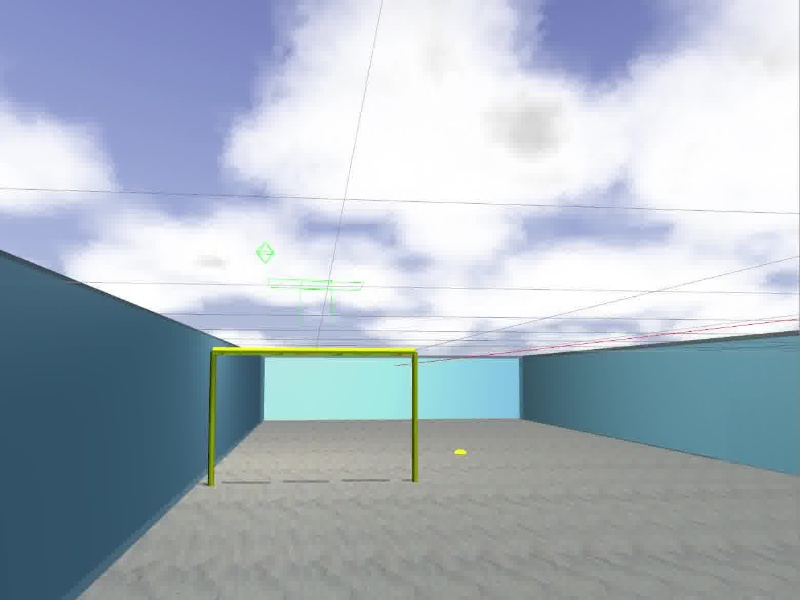gate: (208, 347, 420, 485)
